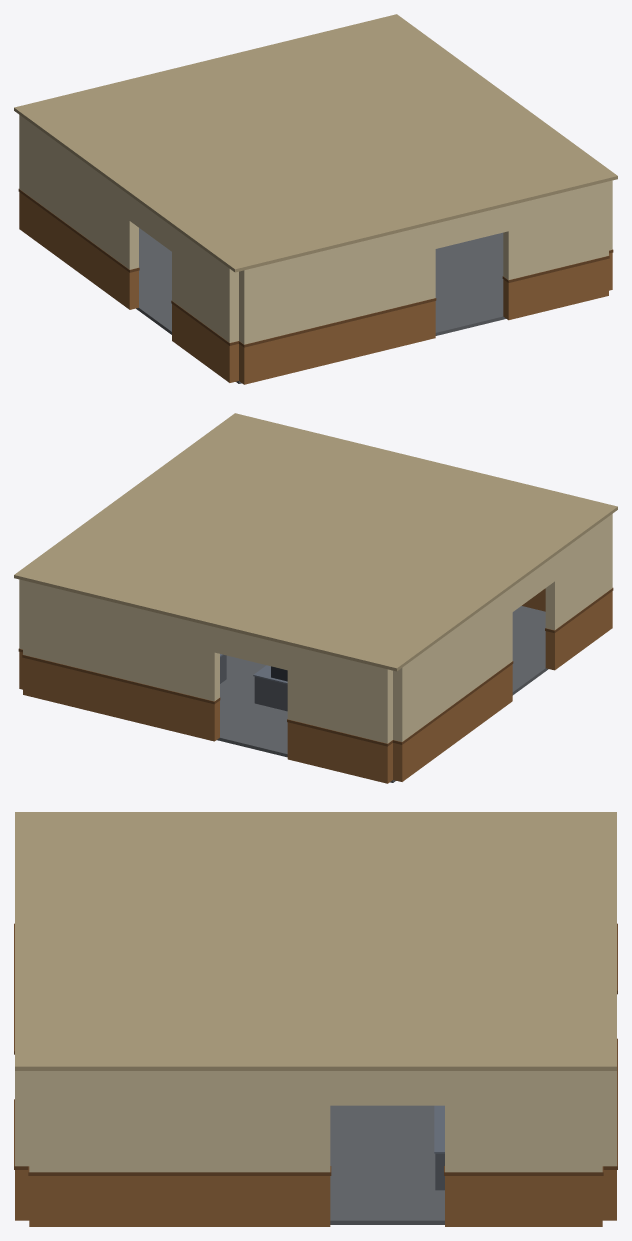
Rendered from room_robotics_electronics_lab.glb.
3 views of the same model, one above another, from view 1: azimuth 30°, elevation 25°; view 2: azimuth 150°, elevation 25°; view 3: azimuth 270°, elevation 25° (orthographic). The views are drawn at different scales.
Visible parts, largest first — view 1: room_robotics_electronics_lab; view 2: room_robotics_electronics_lab; view 3: room_robotics_electronics_lab.
Part boxes in pixels (x1,y1,x2,y2): room_robotics_electronics_lab: (14,14,617,384); room_robotics_electronics_lab: (14,413,617,783); room_robotics_electronics_lab: (14,812,617,1226).
Size of the model in its own units: 12.62 by 3.8 by 12.64.
Materials: 1 (1 with a texture image).
